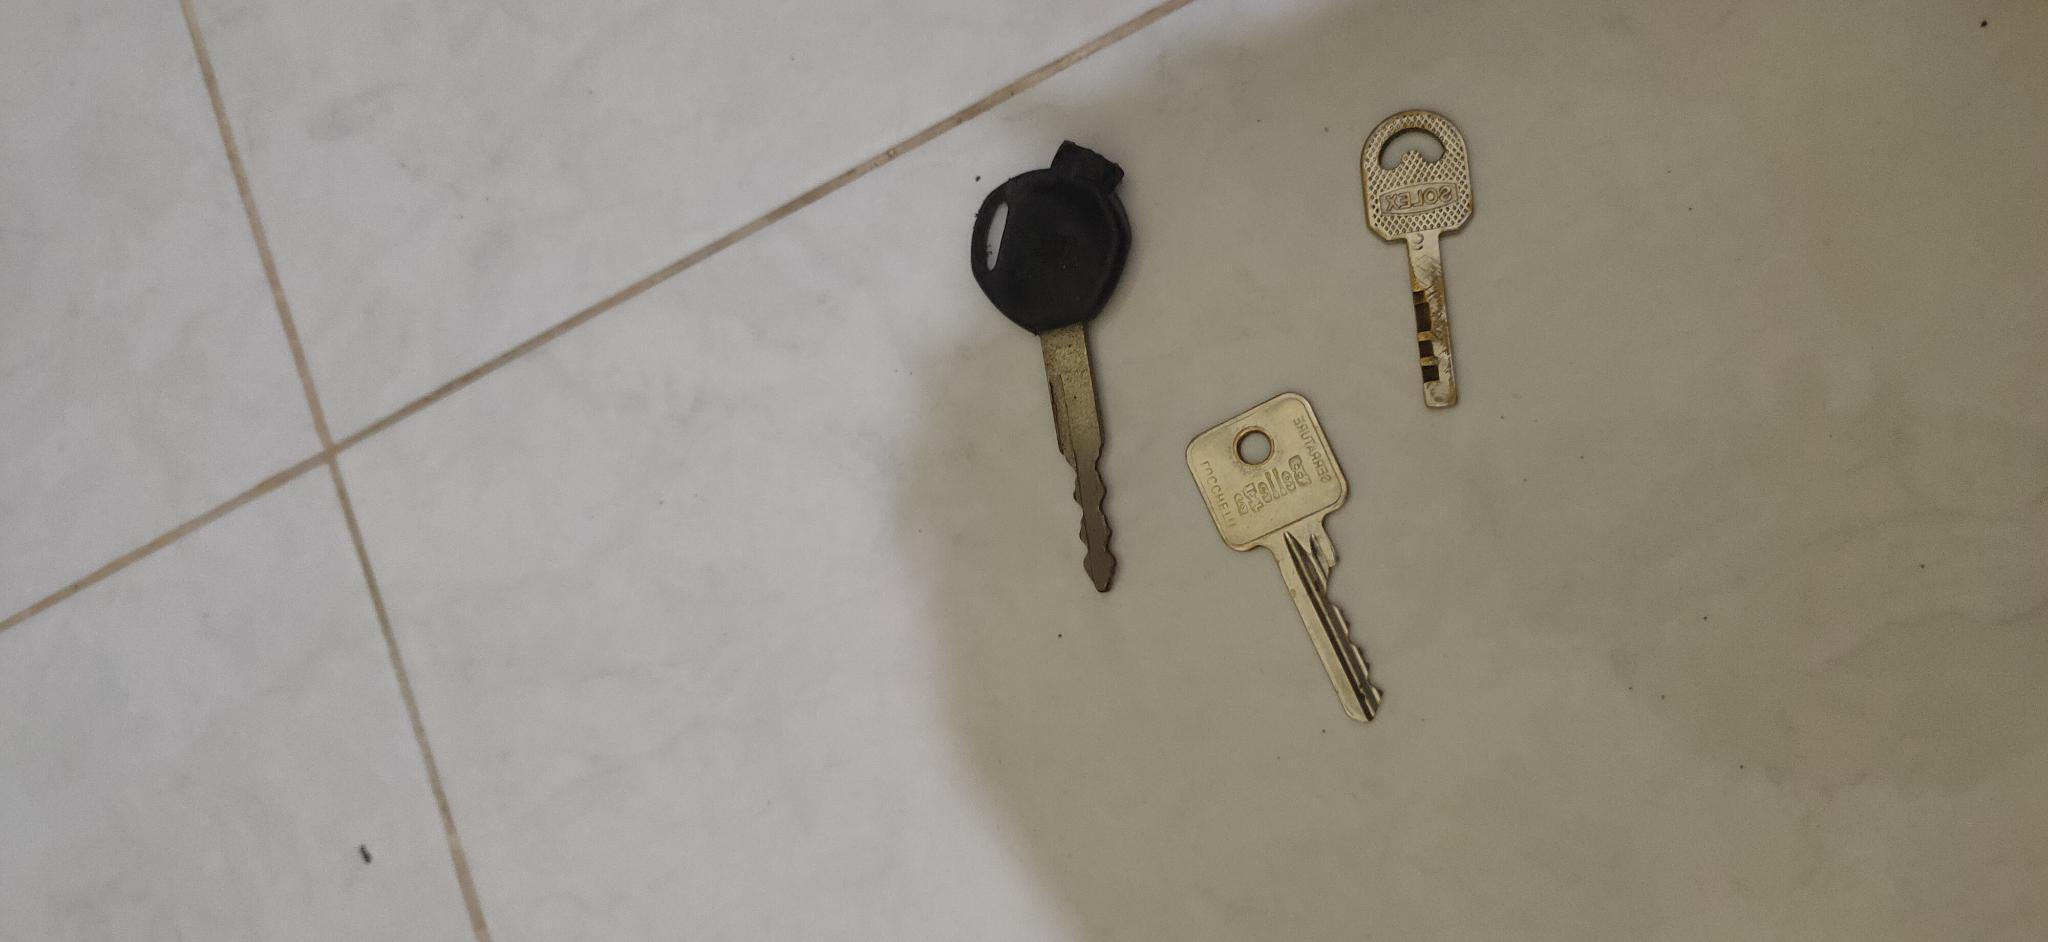keys: (961, 132, 1147, 608), (1183, 391, 1403, 737), (1352, 95, 1482, 429)
